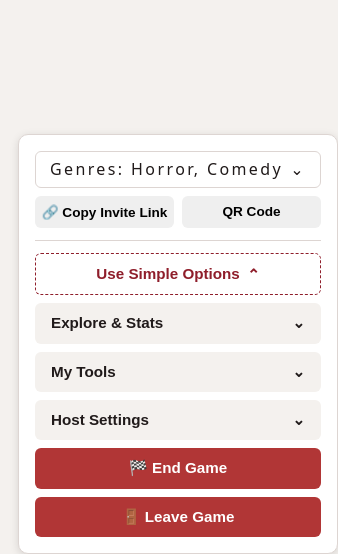
Test: GameMenu › switches between advanced option sections instead of expanding them all at once
(page scrolled)
Step 1. Click the button "Explore & Stats" → (107,323), box [35, 303, 321, 344]
(page scrolled)
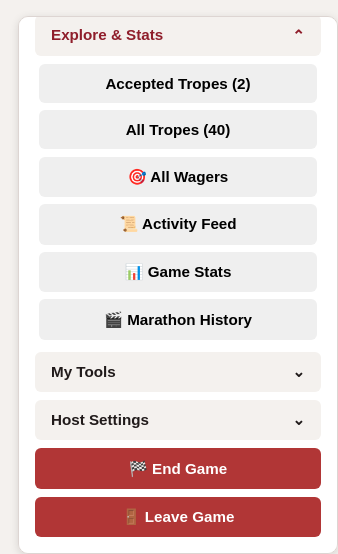
expect the button "🎯 Manage Wagers" is not shown: met
expect the button "All Tropes (40)" is shown: met, box [39, 110, 317, 150]
Step 2. Click the button "My Tools" → (83,371), box [35, 352, 321, 392]
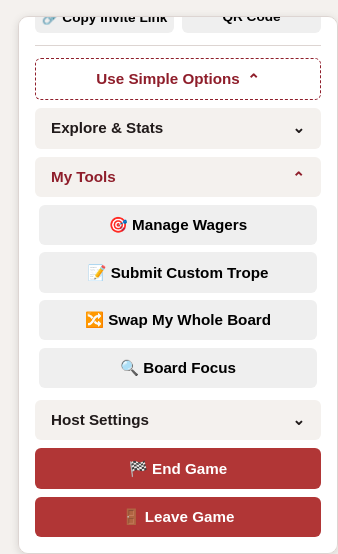
expect the button "All Tropes (40)" is gone: met
expect the button "🎯 Manage Wagers" is shown: met, box [39, 205, 317, 245]
